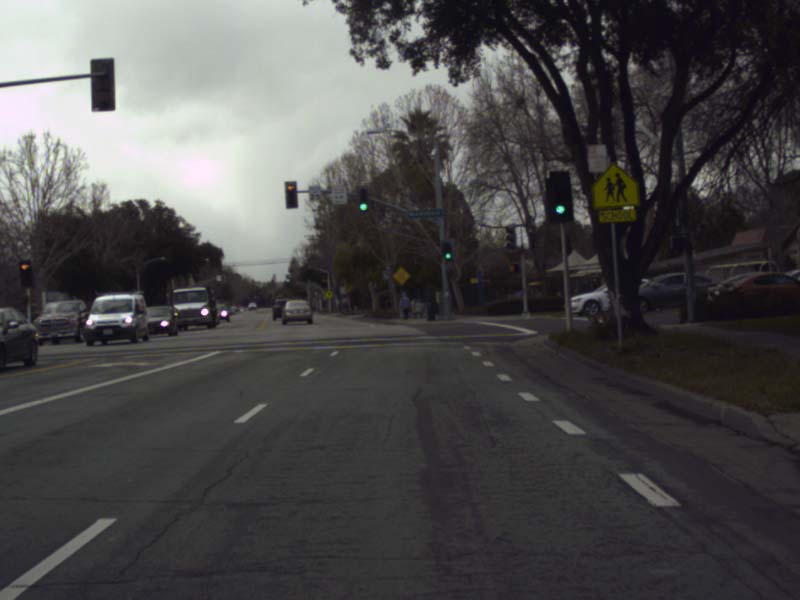Green: (549, 171, 573, 221), (358, 188, 367, 212), (442, 240, 451, 260), (285, 274, 289, 283), (314, 289, 317, 297)
Red: (285, 182, 296, 207), (20, 261, 29, 286)
